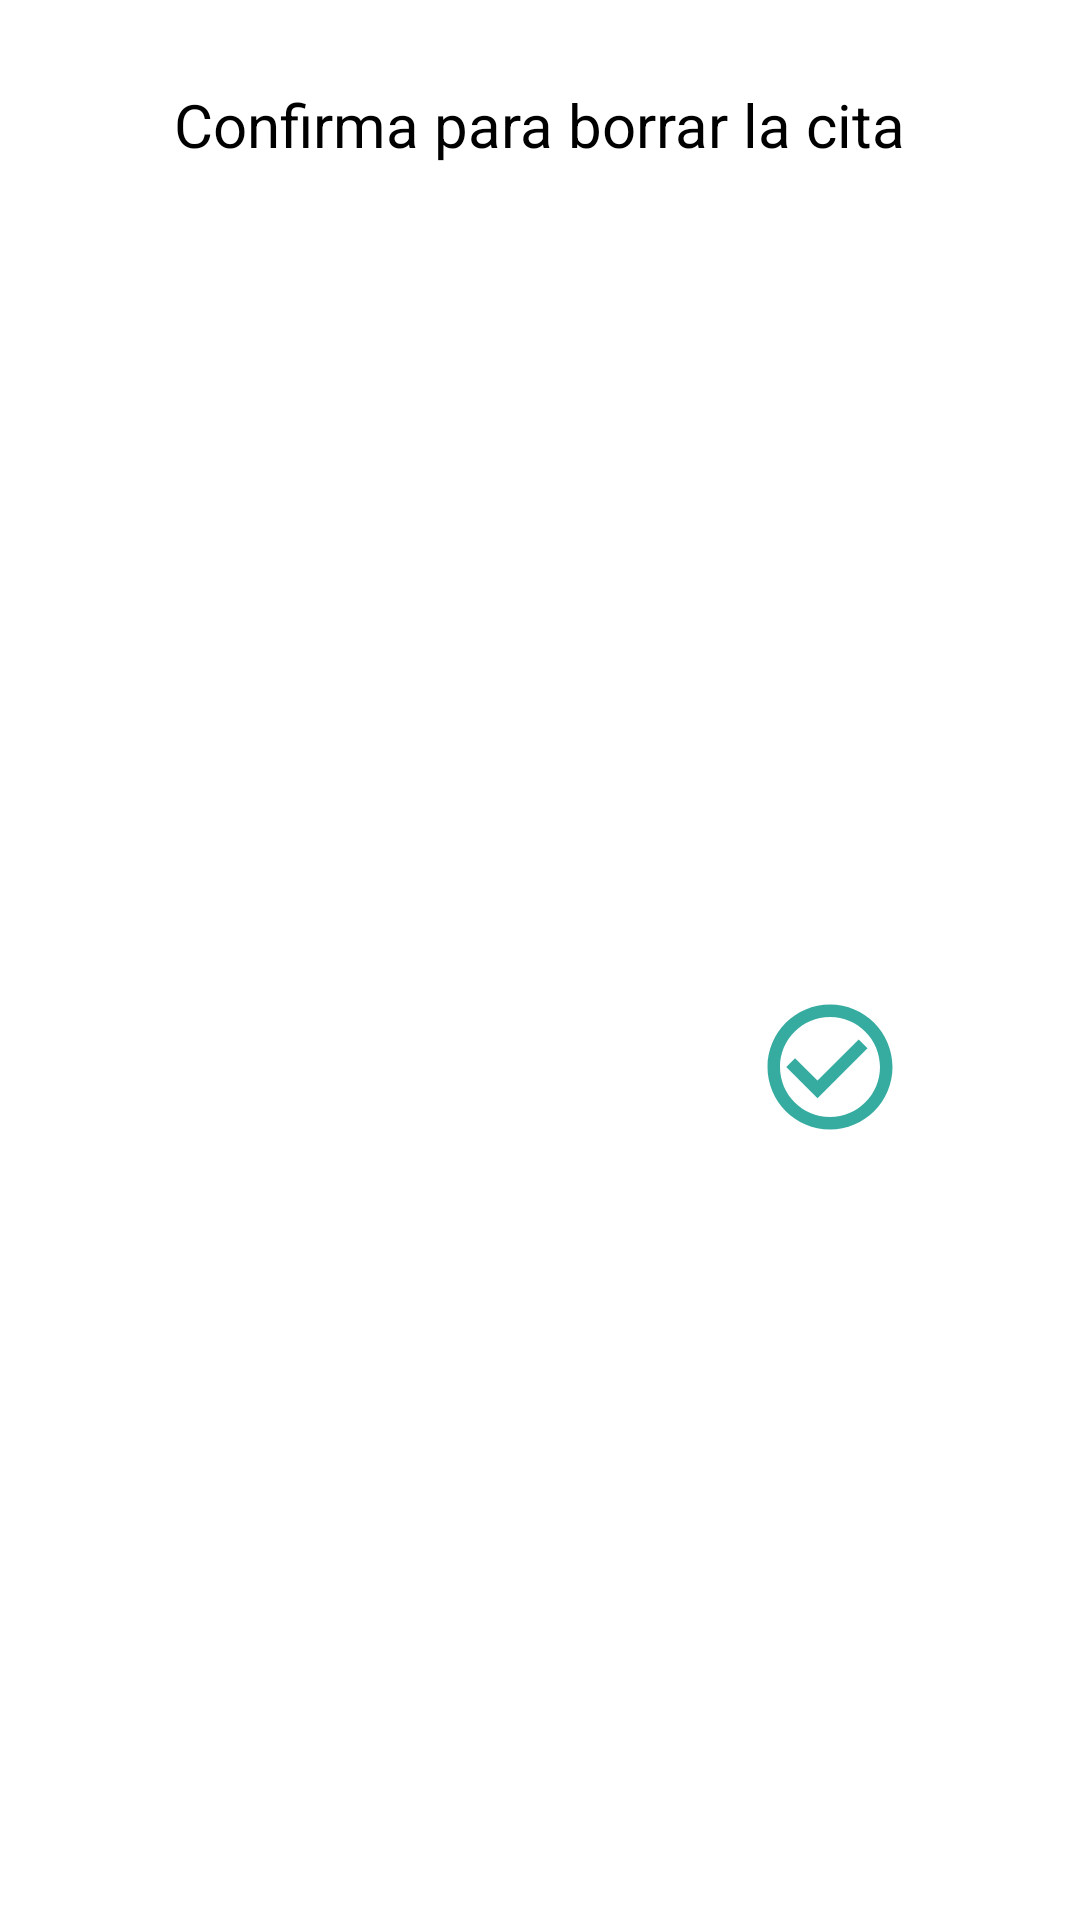

Named icons in this screenshot (1080 x 1920) and their bounding boxes, (x1, y1, x2, y2):
check circle: (767, 1004, 893, 1130)
